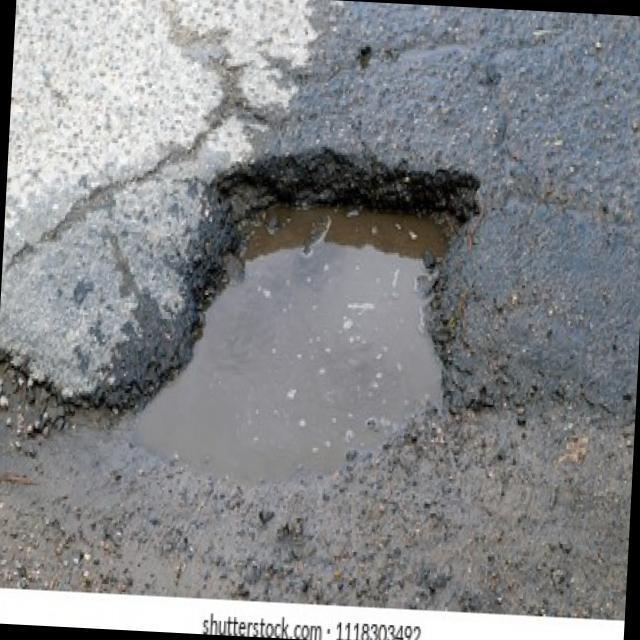Pothole: (0, 149, 481, 484)
